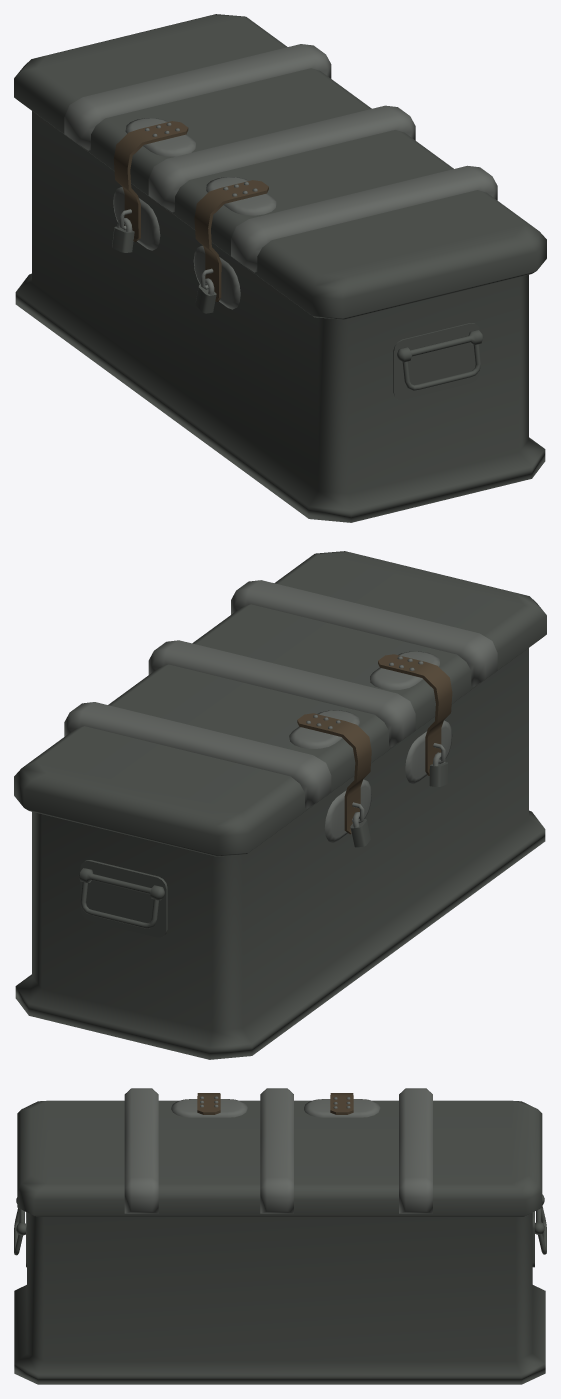
The model's file is metal ammo crate.fbx.
3 renders of one model, top to bottom at view 1: azimuth 30°, elevation 25°; view 2: azimuth 150°, elevation 25°; view 3: azimuth 270°, elevation 25°, orthographic. The views are drawn at different scales.
Parts seen in each view (by area): view 1: metal_ammo_crate; view 2: metal_ammo_crate; view 3: metal_ammo_crate.
Part boxes in pixels (x1=…): metal_ammo_crate: x1=14, y1=14, x2=546, y2=522; metal_ammo_crate: x1=14, y1=551, x2=546, y2=1059; metal_ammo_crate: x1=14, y1=1088, x2=546, y2=1384.
Bounding box in the file's own units: 250 × 232 × 549.
